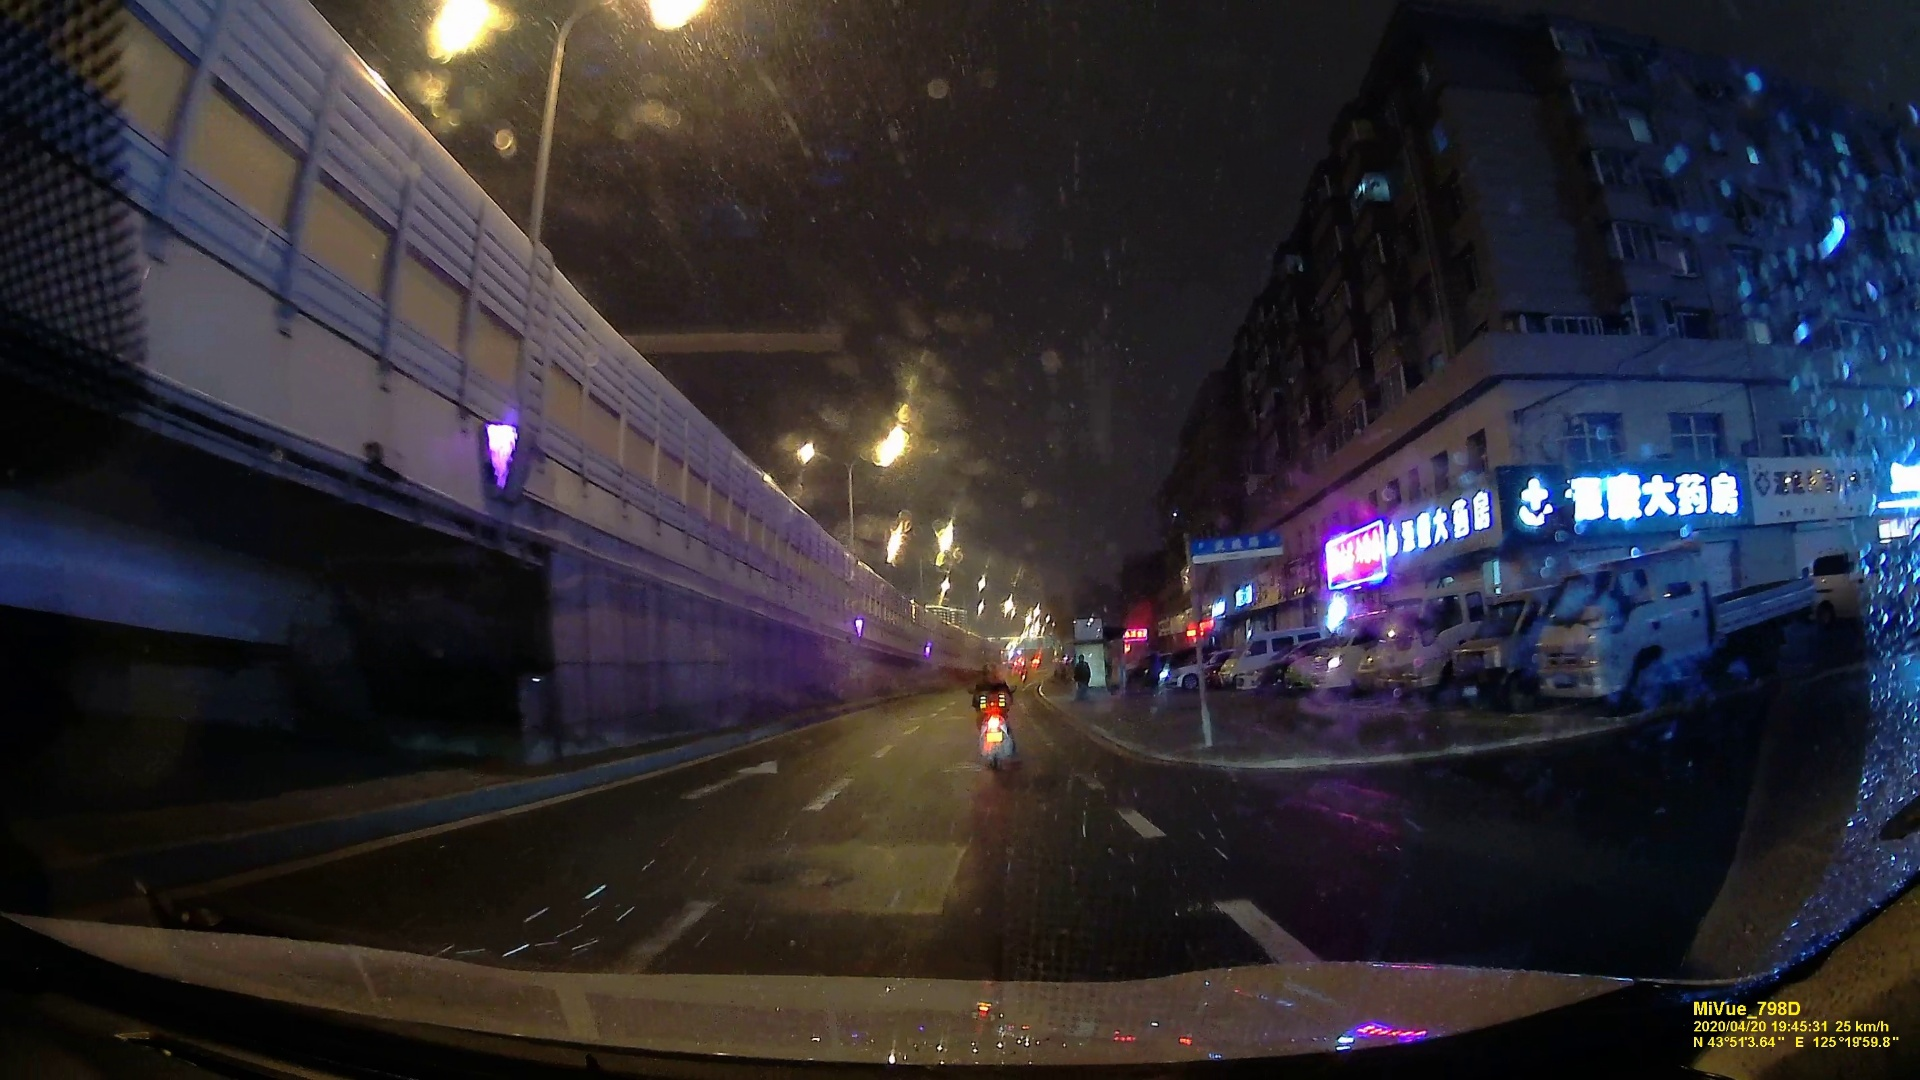minibus: (1220, 630, 1281, 689)
person: (970, 664, 1011, 713), (1072, 652, 1089, 701)
traffic_sign: (1185, 536, 1283, 560)
truck: (1533, 552, 1800, 706), (1371, 592, 1477, 695)
